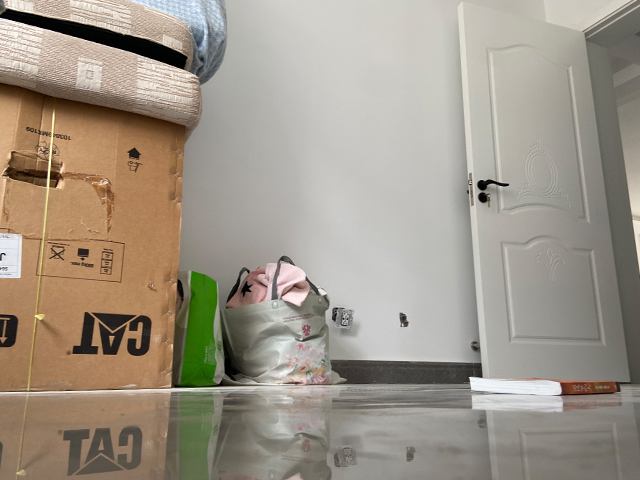book: (467, 374, 621, 397)
